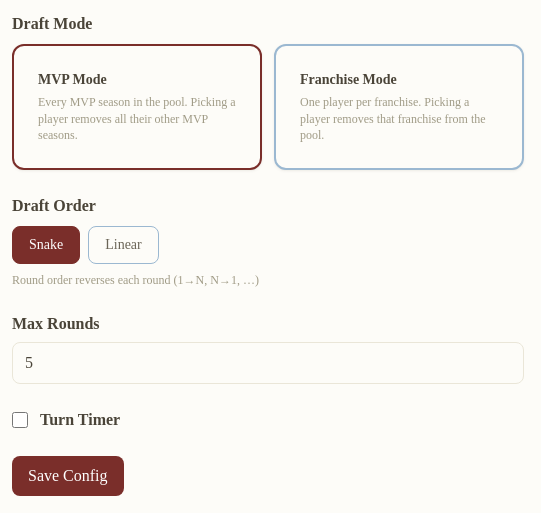
it: DraftConfigPanel › draft order selection › updates the description text when Linear is selected
Step 1. Click the button "Linear" → click(123, 244), box x1=88 y1=226 x2=159 y2=264
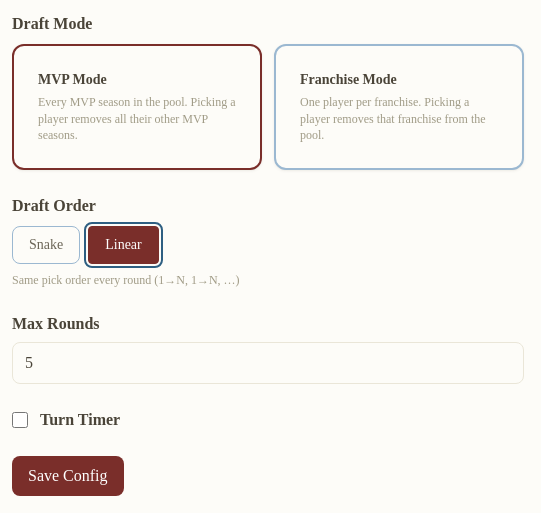
Result: the text "Same pick order every round (1→N, 1→N, …)" is shown at x1=12 y1=272 x2=240 y2=286
